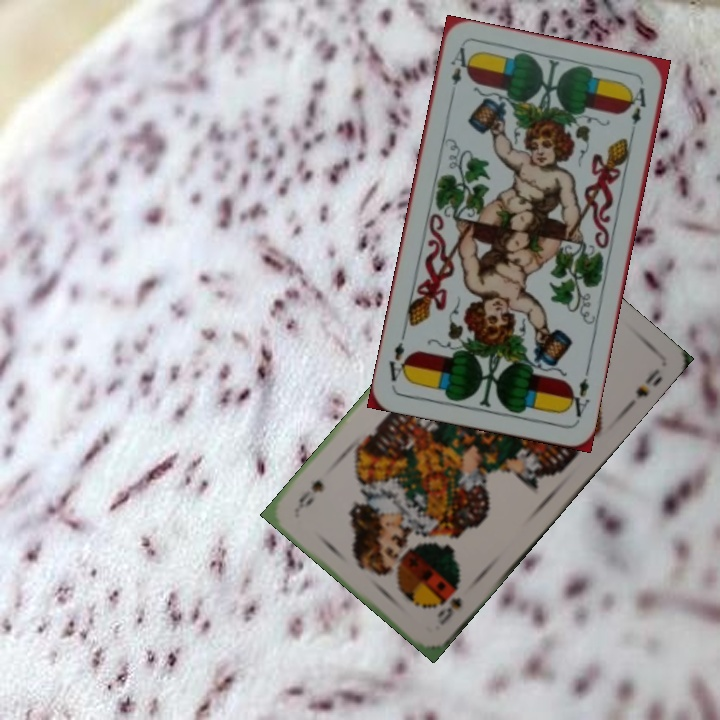EA: (446, 43, 474, 102), (563, 365, 593, 420)
SO: (433, 583, 465, 628)
